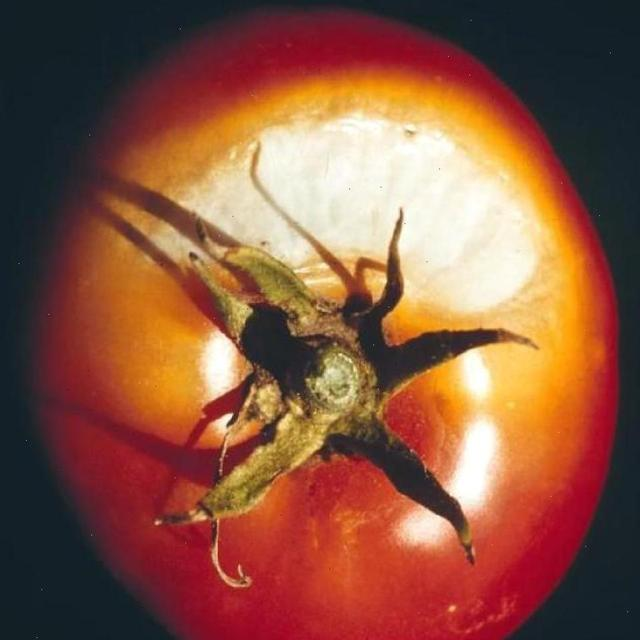Sunscald Fruit: (92, 53, 363, 217)
